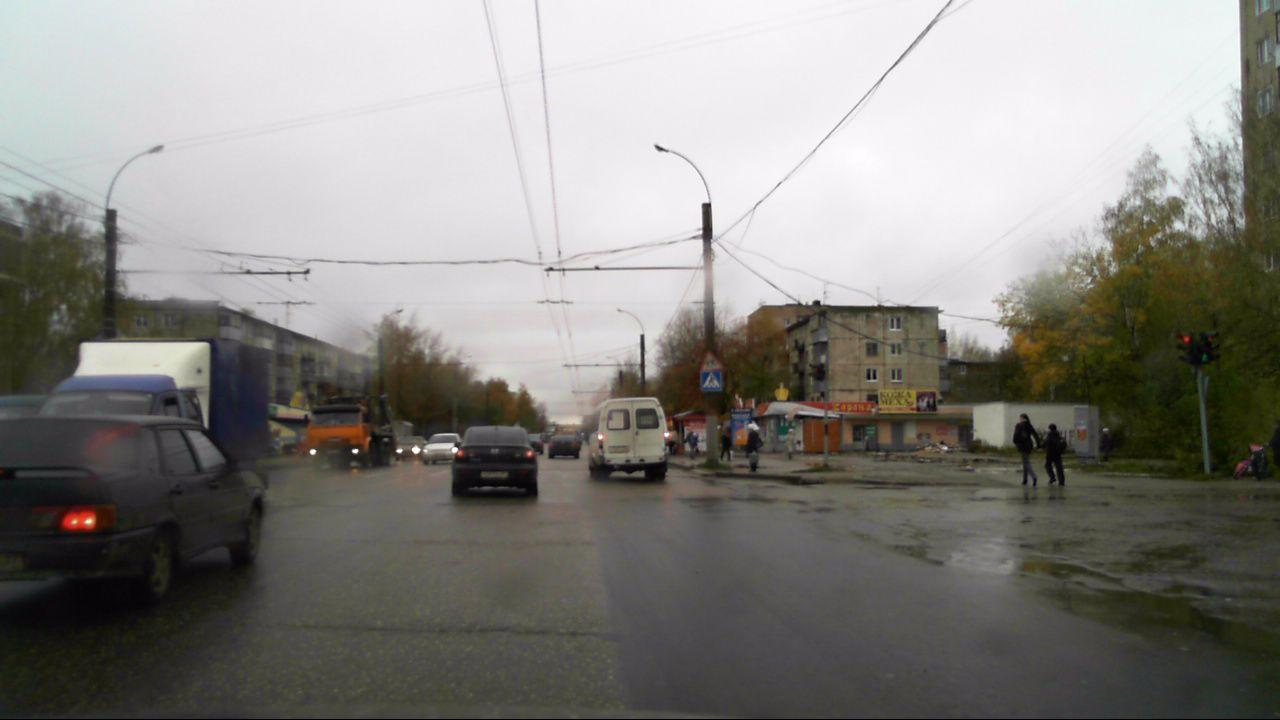road_sign: (700, 371, 723, 391)
traffic light: (1175, 331, 1197, 365), (1200, 331, 1221, 365)
